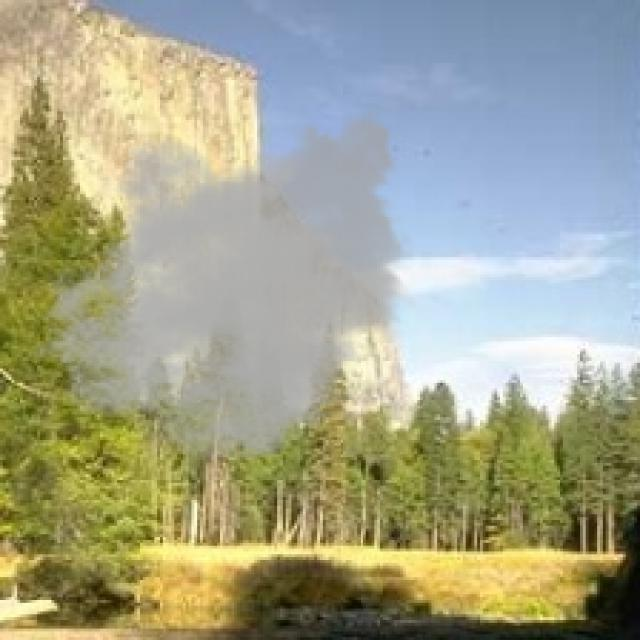Smoke: (32, 100, 417, 463)
